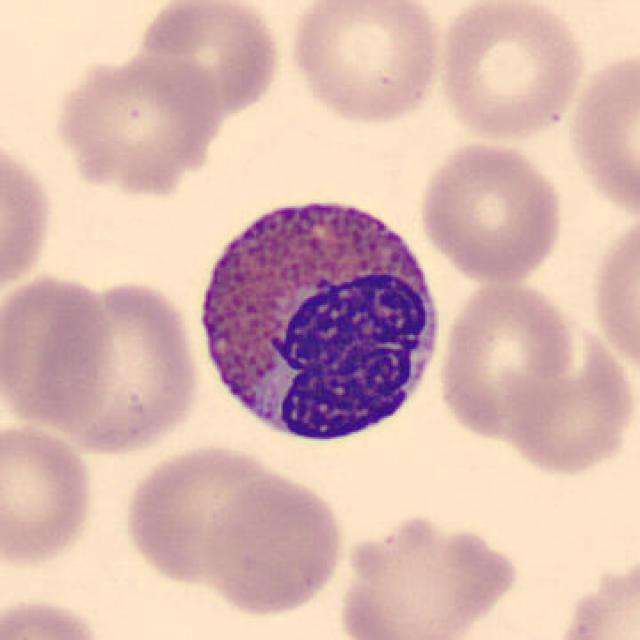Eosinophil: (183, 178, 453, 458)
RBC: (27, 275, 205, 458), (46, 48, 226, 198), (117, 441, 295, 589), (436, 274, 580, 444), (334, 511, 521, 640), (496, 318, 638, 480), (414, 136, 567, 286), (195, 471, 348, 619), (434, 0, 588, 145), (284, 0, 448, 129), (0, 268, 116, 437), (134, 0, 286, 122), (0, 418, 100, 573), (562, 44, 640, 226), (0, 129, 57, 305), (588, 206, 638, 383), (547, 550, 640, 640), (0, 594, 114, 640)
